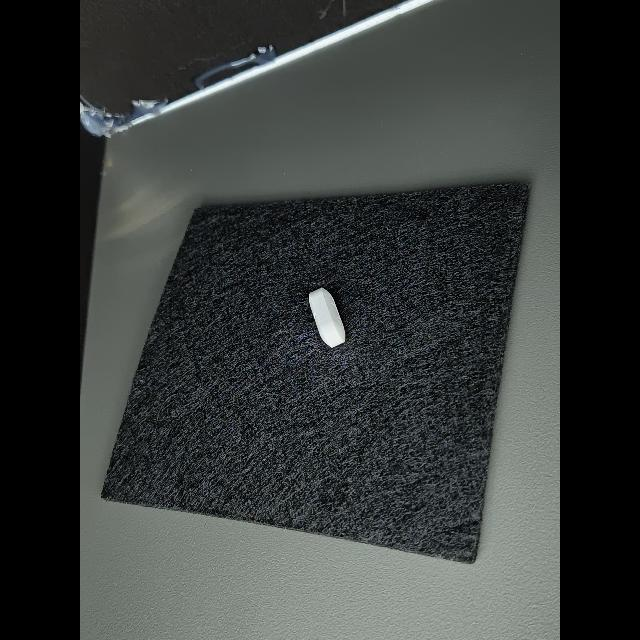Intact Pill: (309, 288, 345, 348)
